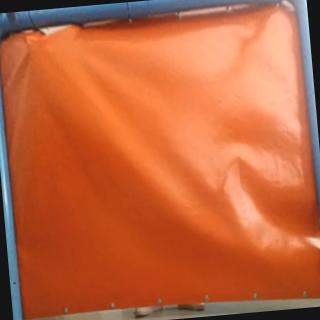Hit-hRxx: (20, 32, 40, 48)
